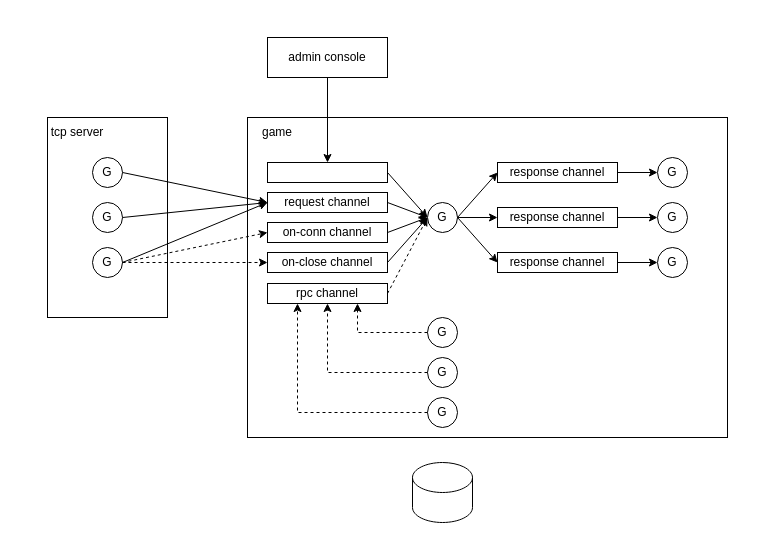
Image size: 784x554. Some labels were removed from this diagram. The centre of each missing label's shape, as x and y in pixels:
"command channel" goes at (327,172).
"DB" goes at (442,492).
